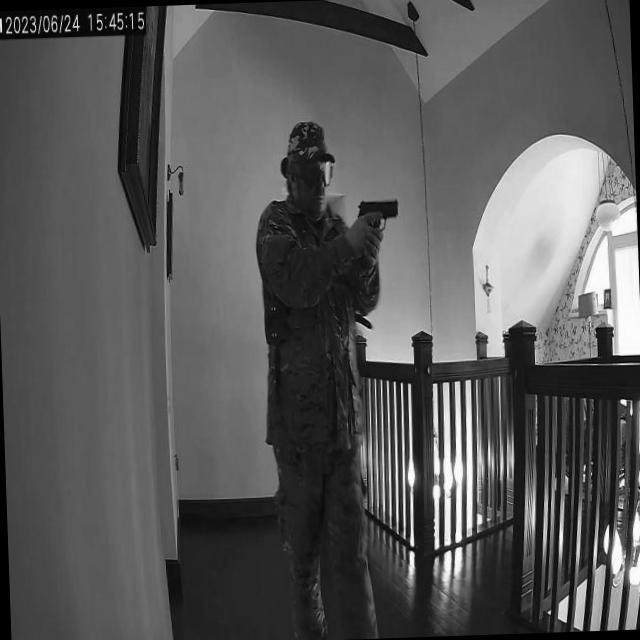gun: (356, 196, 401, 234)
person with a gun: (252, 116, 371, 640)
